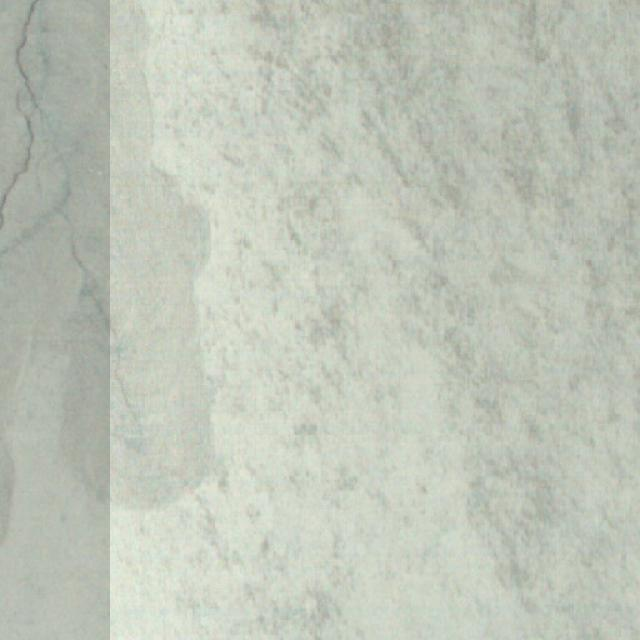Network: (0, 0, 161, 441)
Rippled: (178, 11, 640, 640)
